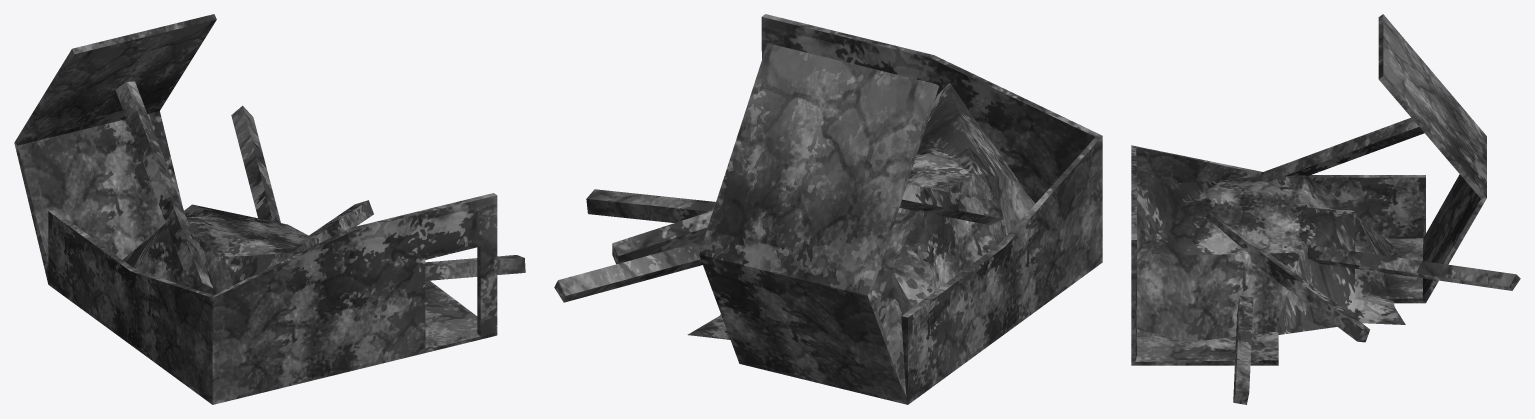
File: HouseDestroyed3.fbx
3 renders of one model, left to right at view 1: azimuth 30°, elevation 25°; view 2: azimuth 150°, elevation 25°; view 3: azimuth 270°, elevation 25°, orthographic. The views are drawn at different scales.
Visible parts, largest first — view 1: Dhouse3; view 2: Dhouse3; view 3: Dhouse3.
Boxes of the visible parts, left/top/right/bottom form: Dhouse3: left=14, top=14, right=525, bottom=404; Dhouse3: left=554, top=14, right=1102, bottom=404; Dhouse3: left=1131, top=14, right=1520, bottom=404.
Bounding box in the file's own units: 1778 × 1172 × 1806.
